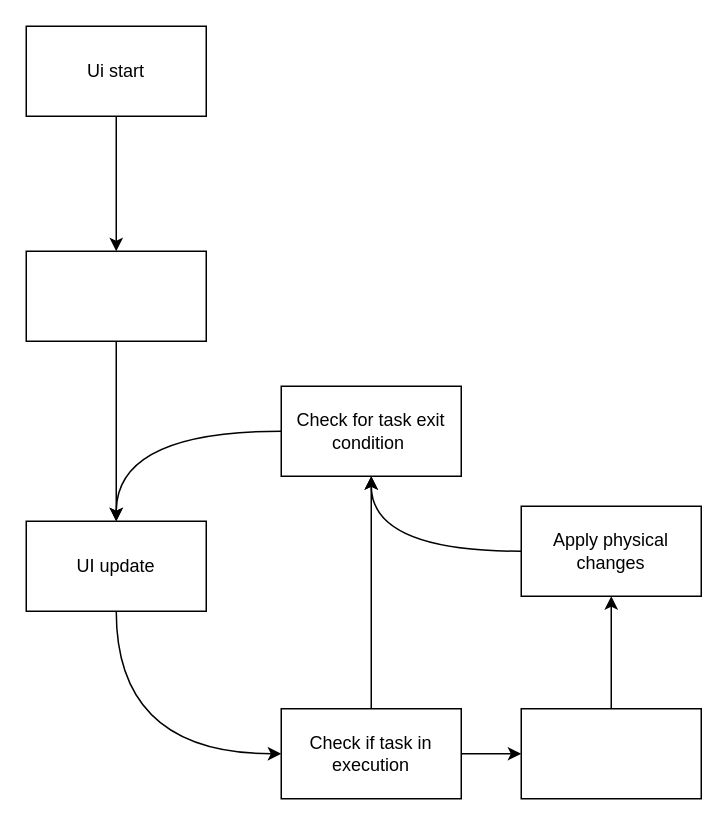
This 728x825 diagram has some shape labels left out. The centre of each missing label's shape, as x and y in pixels:
"Add new item to execution" belongs at pixel 610 753.
"Start loop" belongs at pixel 115 295.
